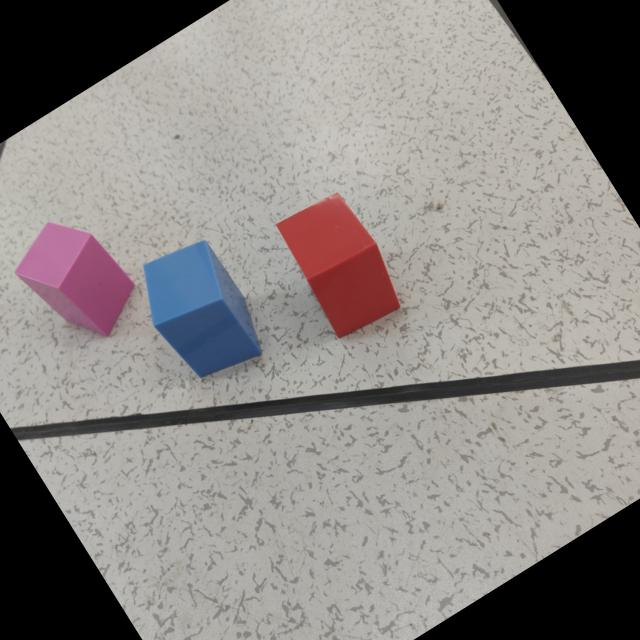blue: (143, 241, 263, 378)
pink: (15, 222, 136, 338)
red: (277, 195, 402, 338)
